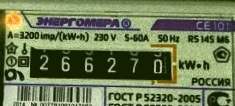0: (151, 57, 164, 74)
2: (36, 52, 50, 70), (105, 55, 117, 73)
6: (82, 55, 95, 74), (59, 54, 72, 72)
7: (128, 55, 140, 74)
screen: (19, 37, 183, 90)
